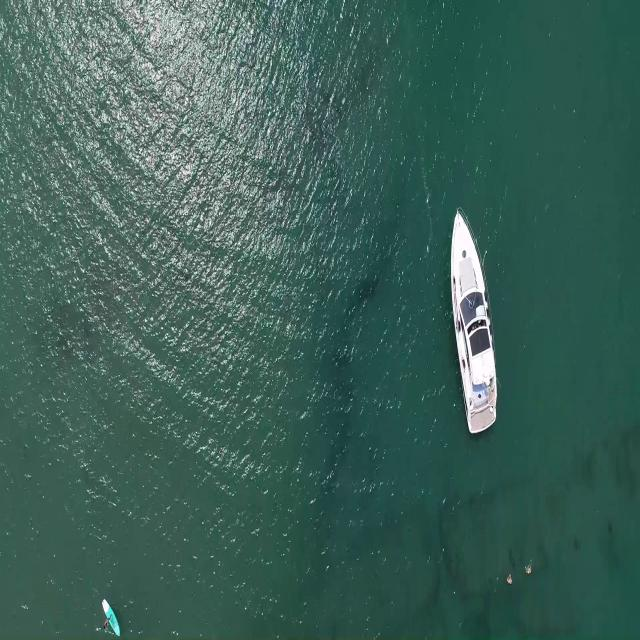boat: (448, 205, 504, 438)
person: (523, 562, 536, 576), (101, 608, 112, 622), (506, 574, 514, 584)
surfboard: (103, 597, 119, 640)
